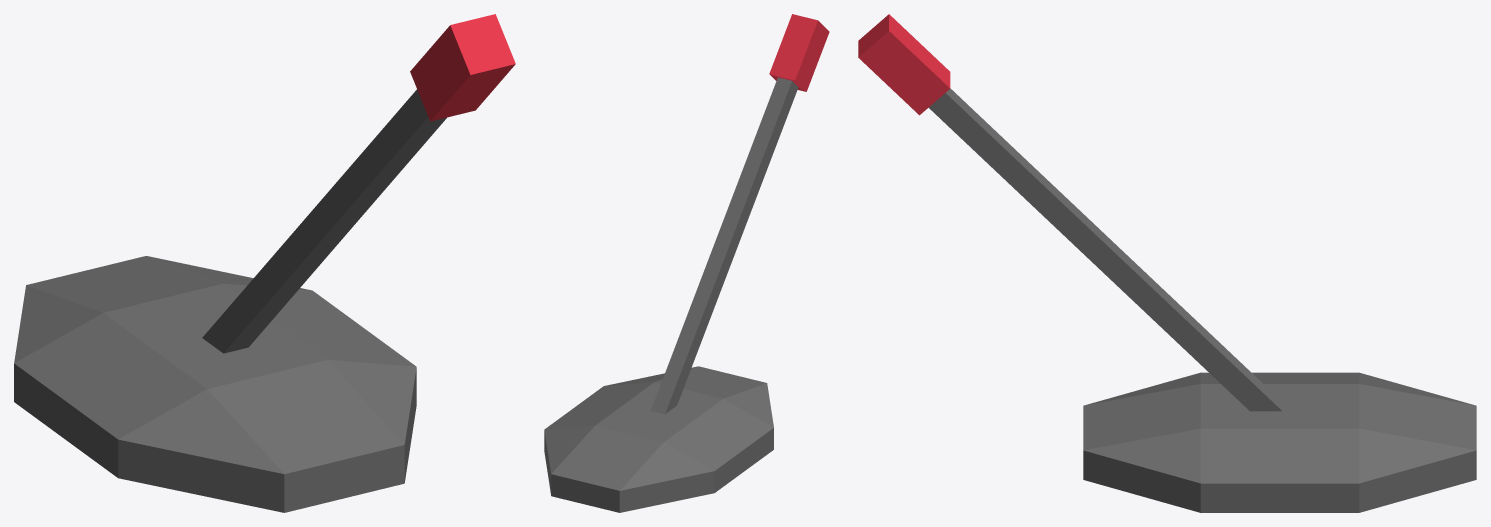
Rendered from lever.fbx.
3 renders of one model, left to right at view 1: azimuth 30°, elevation 25°; view 2: azimuth 150°, elevation 25°; view 3: azimuth 270°, elevation 25°, orthographic. The views are drawn at different scales.
Visible parts, largest first — view 1: Cube, Cube.001; view 2: Cube, Cube.001; view 3: Cube, Cube.001.
Boxes of the visible parts, x1=… form: Cube: x1=14, y1=256, x2=416, y2=512; Cube.001: x1=202, y1=14, x2=515, y2=353; Cube: x1=544, y1=366, x2=773, y2=512; Cube.001: x1=650, y1=14, x2=829, y2=414; Cube: x1=1083, y1=372, x2=1476, y2=512; Cube.001: x1=858, y1=14, x2=1282, y2=411.
Size of the model in its own units: 650 by 1190 by 1531.
